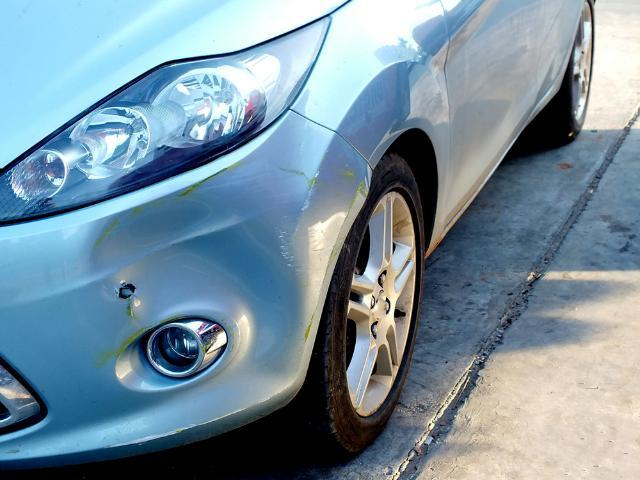dent: (92, 199, 293, 353)
scratch: (178, 163, 368, 302), (107, 406, 248, 451)
